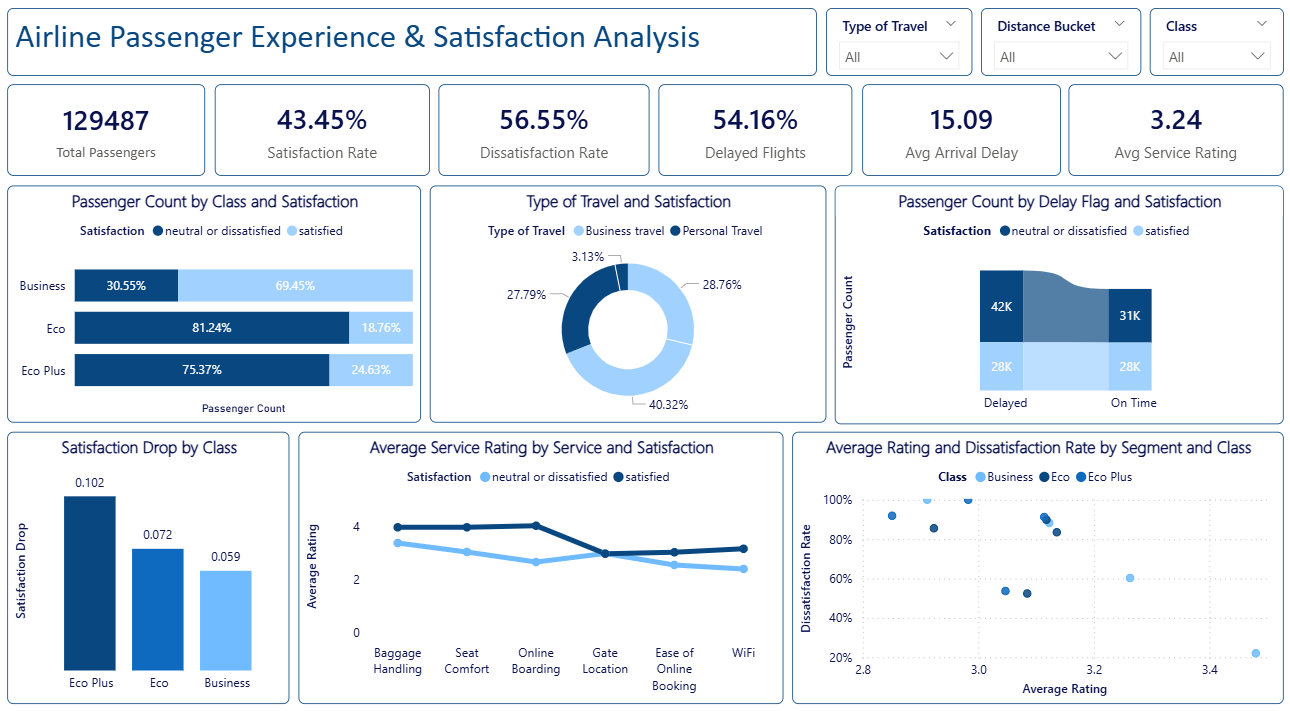

This screenshot's page, from the dashboard's own definition file:
{"tool":"powerbi","page":{"name":"Page 1","canvas":[1280,720],"ordinal":0},"visuals":[{"type":"card","fields":{"Values":["airline_passenger_cleaned.Satisfaction Rate"]},"box":[214,99,210.3,89.3],"z":0},{"type":"card","fields":{"Values":["airline_passenger_cleaned.Dissatisfaction Rate"]},"box":[432.9,99,206.7,89.3],"z":1000},{"type":"card","fields":{"Values":["airline_passenger_cleaned.Delay Rate"]},"box":[648.1,99,189.5,89.3],"z":2000},{"type":"card","fields":{"Values":["airline_passenger_cleaned.Total Passengers"]},"box":[11,99,193.2,89.3],"z":3000},{"type":"card","fields":{"Values":["airline_passenger_cleaned.Avg Arrival Delay"]},"box":[847.4,99,194.4,89.3],"z":4000},{"type":"card","fields":{"Values":["airline_passenger_cleaned.Avg Service Rating"]},"box":[1049.2,99,210.3,89.3],"z":5000},{"type":"textbox","box":[11,24.5,792.4,66],"z":6000},{"type":"slicer","fields":{"Values":["airline_passenger_cleaned.type_of_travel"]},"box":[812,24.5,143.1,66],"z":7000},{"type":"slicer","fields":{"Values":["airline_passenger_cleaned.distance_bucket"]},"box":[963.6,24.5,156.5,66],"z":8000},{"type":"slicer","fields":{"Values":["airline_passenger_cleaned.class"]},"box":[1128.7,24.5,130.8,66],"z":9000},{"type":"hundredPercentStackedBarChart","title":"Passenger Count by Class and Satisfaction","fields":{"Category":["airline_passenger_cleaned.class"],"Series":["airline_passenger_cleaned.satisfaction"],"Y":["CountNonNull(airline_passenger_cleaned.satisfaction)"]},"box":[11,198.1,404.8,232.3],"z":10000},{"type":"donutChart","title":"Type of Travel and Satisfaction","fields":{"Category":["airline_passenger_cleaned.type_of_travel"],"Series":["airline_passenger_cleaned.satisfaction"],"Y":["Count(airline_passenger_cleaned.id)"]},"box":[424.3,198.1,387.6,232.3],"z":11000},{"type":"ribbonChart","title":"Passenger Count by Delay Flag and Satisfaction","fields":{"Category":["airline_passenger_cleaned.delay_flag"],"Series":["airline_passenger_cleaned.satisfaction"],"Y":["CountNonNull(airline_passenger_cleaned.satisfaction)"]},"box":[820.5,198.1,439,233.6],"z":12000},{"type":"clusteredColumnChart","title":"Satisfaction Drop by Class","fields":{"Category":["airline_passenger_cleaned.class"],"Y":["airline_passenger_cleaned.Satisfaction Drop"]},"box":[11,439,276.4,266.6],"z":13000},{"type":"scatterChart","title":"Average Rating and Dissatisfaction Rate by Segment and Class","fields":{"Category":["airline_passenger_cleaned.Segment"],"Series":["airline_passenger_cleaned.class"],"X":["airline_passenger_cleaned.Avg Service Rating"],"Y":["airline_passenger_cleaned.Dissatisfaction Rate"]},"box":[778.9,439,480.6,266.6],"z":14000},{"type":"lineChart","title":"Average Service Rating by Service and Satisfaction","fields":{"Category":["Service Table.Service"],"Series":["airline_passenger_cleaned.satisfaction"],"Y":["Service Table.Selected Service Rating"]},"box":[295.9,439,474.5,266.6],"z":15000}]}

Visuals, with their boxes in screenshot pixels (x1, y1, x2, y2), scaled from the page's 1280x720 canvas onto the 1290x711 screenshot:
card - airline_passenger_cleaned.Satisfaction Rate: (216, 98, 428, 186)
card - airline_passenger_cleaned.Dissatisfaction Rate: (436, 98, 645, 186)
card - airline_passenger_cleaned.Delay Rate: (653, 98, 844, 186)
card - airline_passenger_cleaned.Total Passengers: (11, 98, 206, 186)
card - airline_passenger_cleaned.Avg Arrival Delay: (854, 98, 1050, 186)
card - airline_passenger_cleaned.Avg Service Rating: (1057, 98, 1269, 186)
textbox: (11, 24, 810, 89)
slicer - airline_passenger_cleaned.type_of_travel: (818, 24, 963, 89)
slicer - airline_passenger_cleaned.distance_bucket: (971, 24, 1129, 89)
slicer - airline_passenger_cleaned.class: (1138, 24, 1269, 89)
"Passenger Count by Class and Satisfaction" hundredPercentStackedBarChart: (11, 196, 419, 425)
"Type of Travel and Satisfaction" donutChart: (428, 196, 818, 425)
"Passenger Count by Delay Flag and Satisfaction" ribbonChart: (827, 196, 1269, 426)
"Satisfaction Drop by Class" clusteredColumnChart: (11, 434, 290, 697)
"Average Rating and Dissatisfaction Rate by Segment and Class" scatterChart: (785, 434, 1269, 697)
"Average Service Rating by Service and Satisfaction" lineChart: (298, 434, 776, 697)
